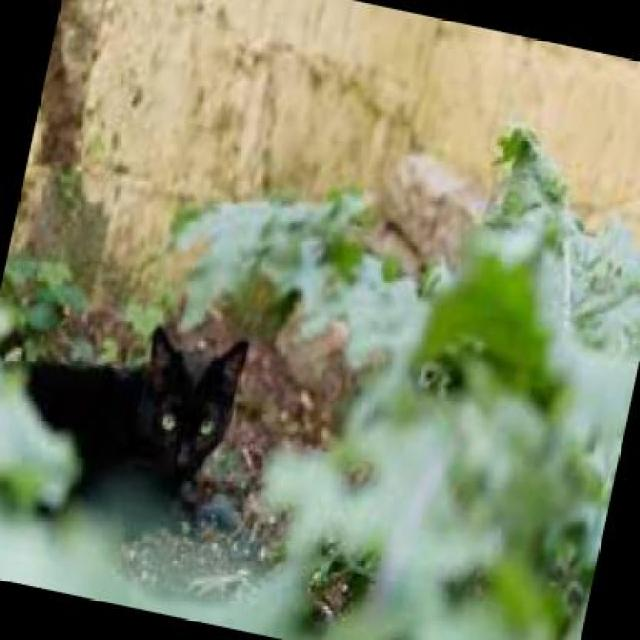animals: (84, 305, 268, 506)
